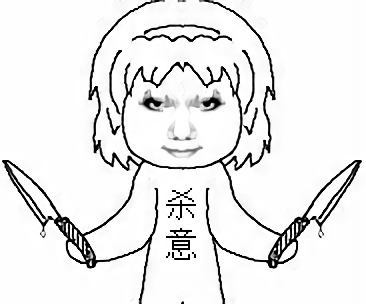dragon: (140, 89, 227, 159)
